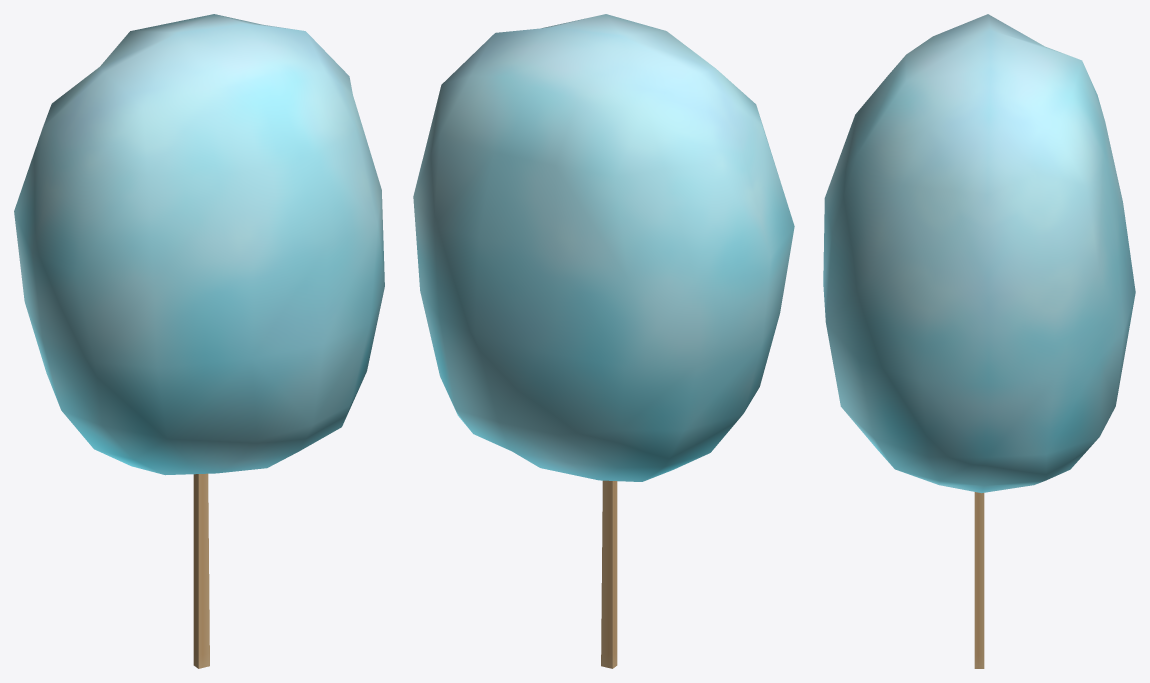
Rendered from jsf_CottonCandy_03S.fbx.
The picture shows the model from 3 angles, left to right: view 1: azimuth 30°, elevation 25°; view 2: azimuth 150°, elevation 25°; view 3: azimuth 270°, elevation 25°; orthographic projection.
Parts seen in each view (by area): view 1: jsf_CottonCandy_03S; view 2: jsf_CottonCandy_03S; view 3: jsf_CottonCandy_03S.
Part boxes in pixels (x1=…): jsf_CottonCandy_03S: x1=14, y1=14, x2=384, y2=668; jsf_CottonCandy_03S: x1=413, y1=14, x2=794, y2=668; jsf_CottonCandy_03S: x1=823, y1=14, x2=1135, y2=668.
Size of the model in its own units: 16.1 by 29.18 by 13.17.
